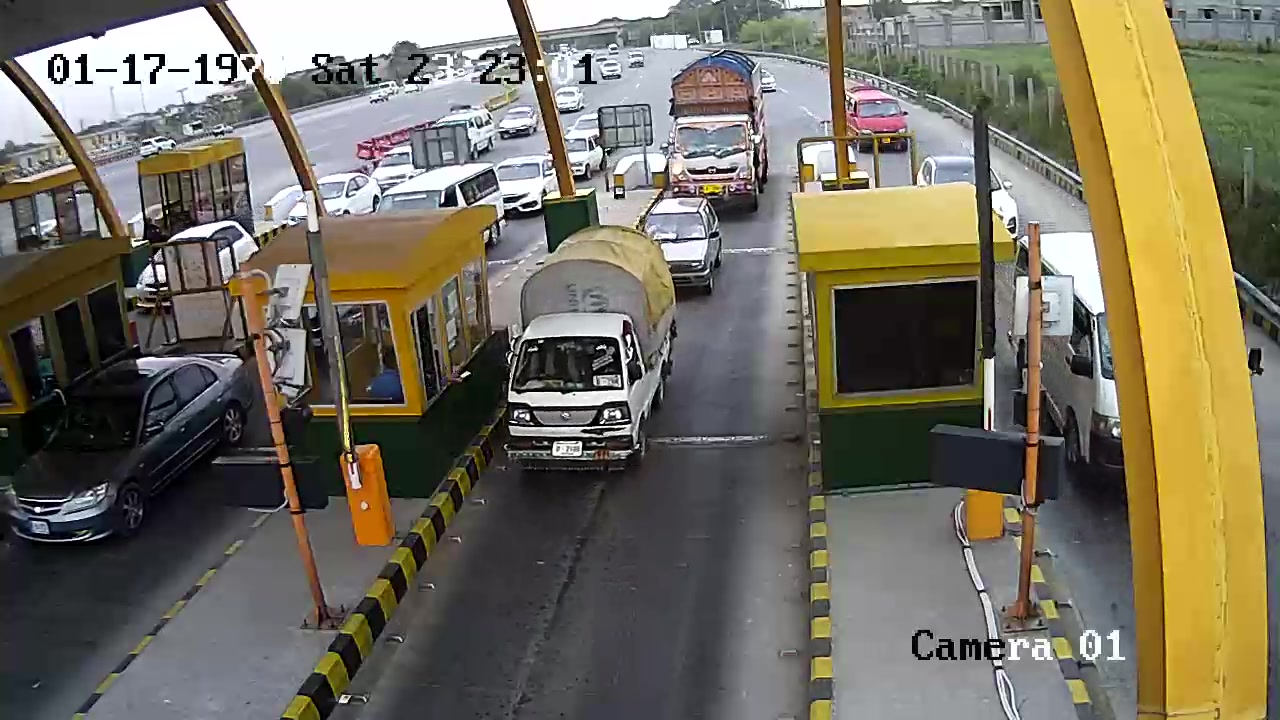F1: (499, 223, 673, 479)
